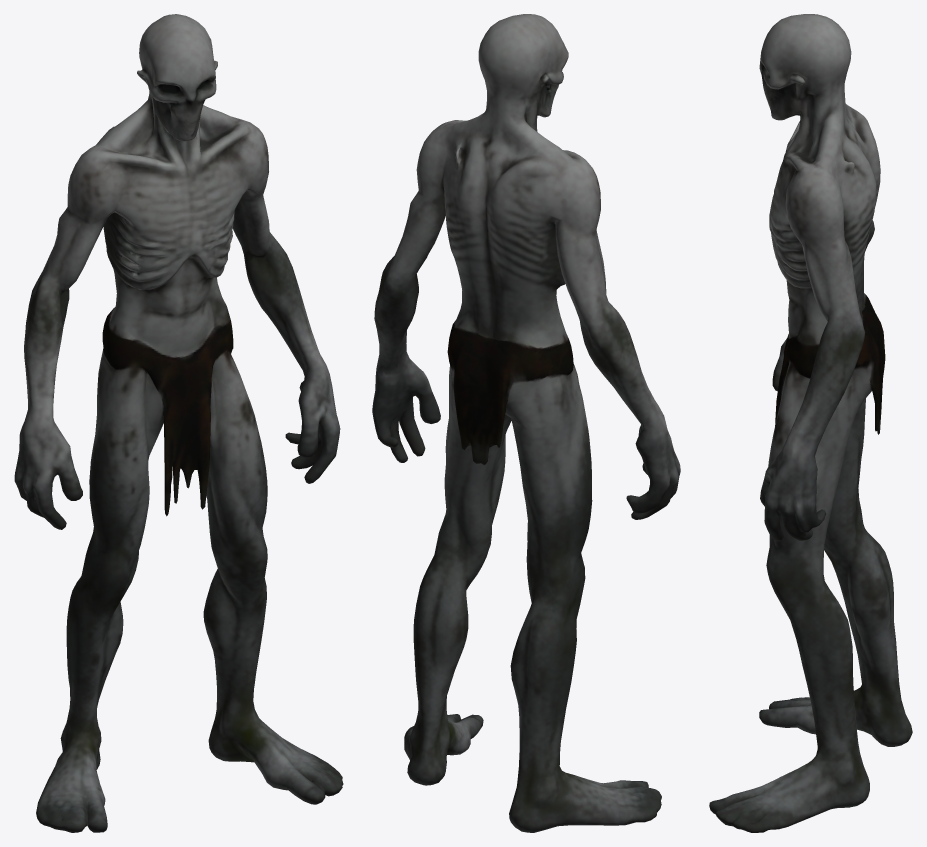
Rendered from hospital-stalker.glb.
3 renders of one model, left to right at view 1: azimuth 30°, elevation 25°; view 2: azimuth 150°, elevation 25°; view 3: azimuth 270°, elevation 25°, orthographic. The views are drawn at different scales.
Visible parts, largest first — view 1: world; view 2: world; view 3: world.
Part boxes in pixels (bbox=[...]): world: bbox=[14, 14, 343, 832]; world: bbox=[372, 14, 680, 832]; world: bbox=[709, 14, 912, 832].
Bounding box in the file's own units: 0.4172 × 1 × 0.2446.
Materials: 1 (1 with a texture image).
